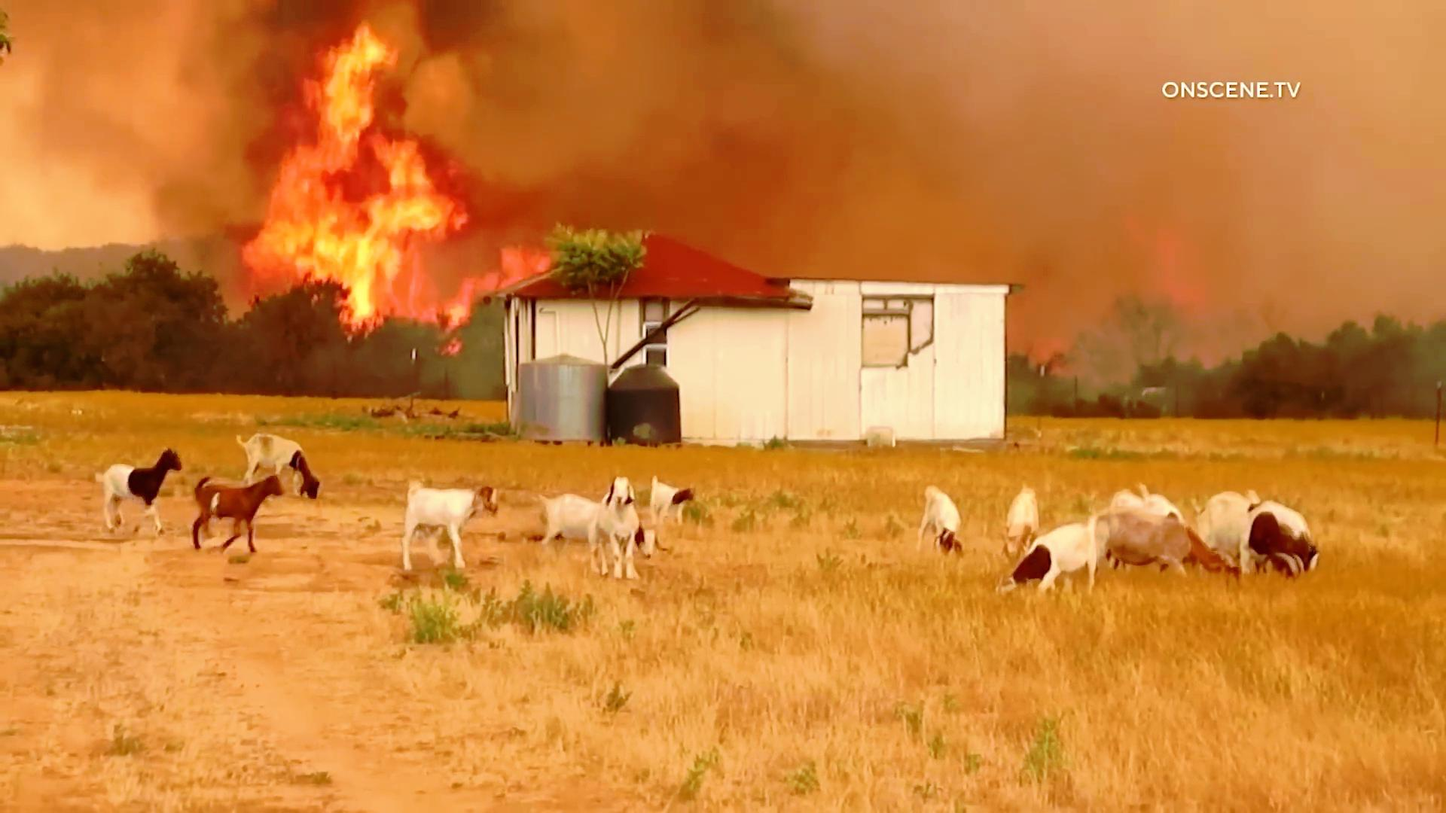fire: (245, 10, 475, 356)
